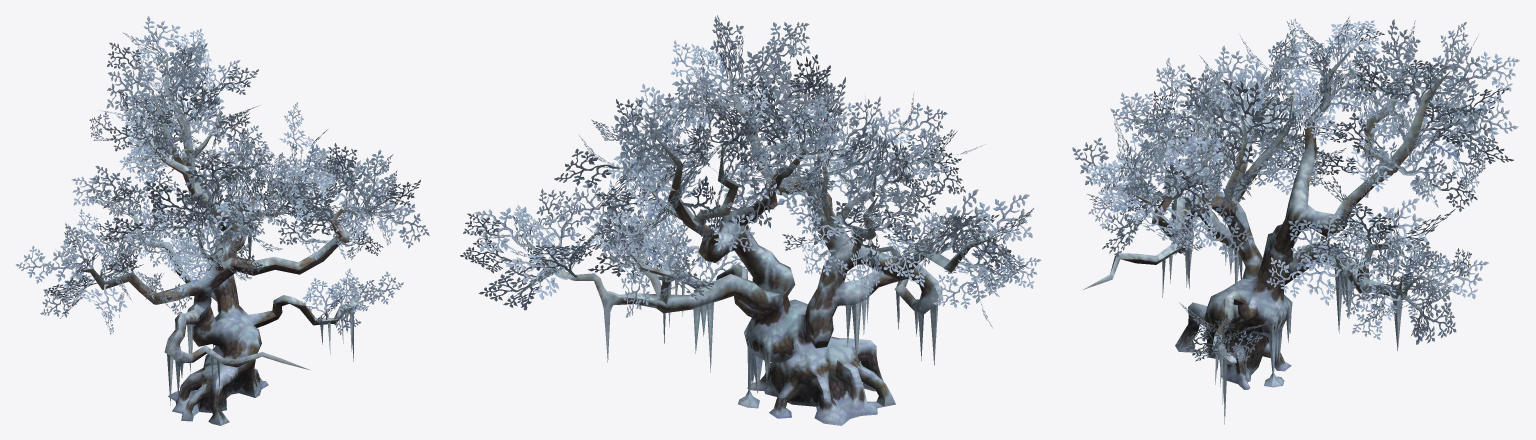
File: map_114_shu_4.fbx
3 views of the same model, side by side, from view 1: azimuth 30°, elevation 25°; view 2: azimuth 150°, elevation 25°; view 3: azimuth 270°, elevation 25° (orthographic). The views are drawn at different scales.
Visible parts, largest first — view 1: map_114_shu_4; view 2: map_114_shu_4; view 3: map_114_shu_4.
Boxes of the visible parts, bbox=[...] form: map_114_shu_4: bbox=[15, 16, 429, 425]; map_114_shu_4: bbox=[460, 15, 1041, 425]; map_114_shu_4: bbox=[1072, 16, 1519, 424].
Bounding box in the file's own units: 5.75 × 4.22 × 4.95.
